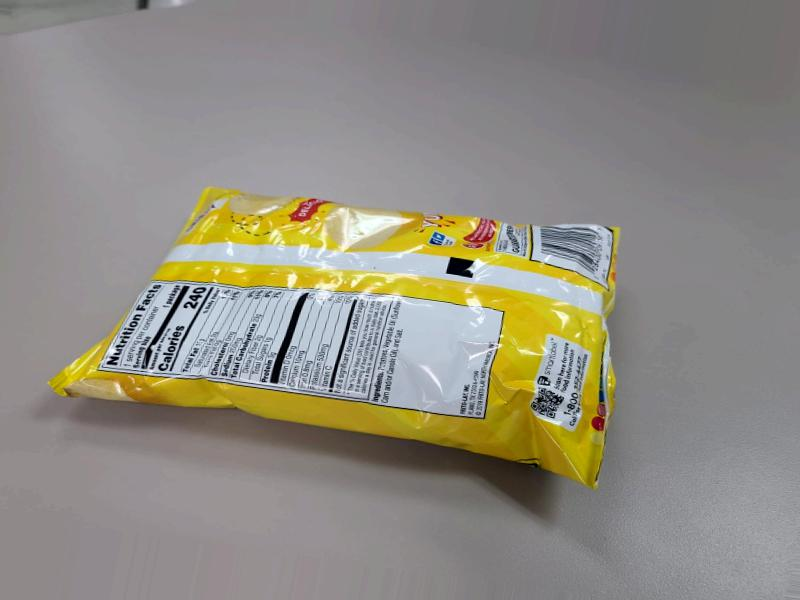lays: (102, 261, 643, 519)
